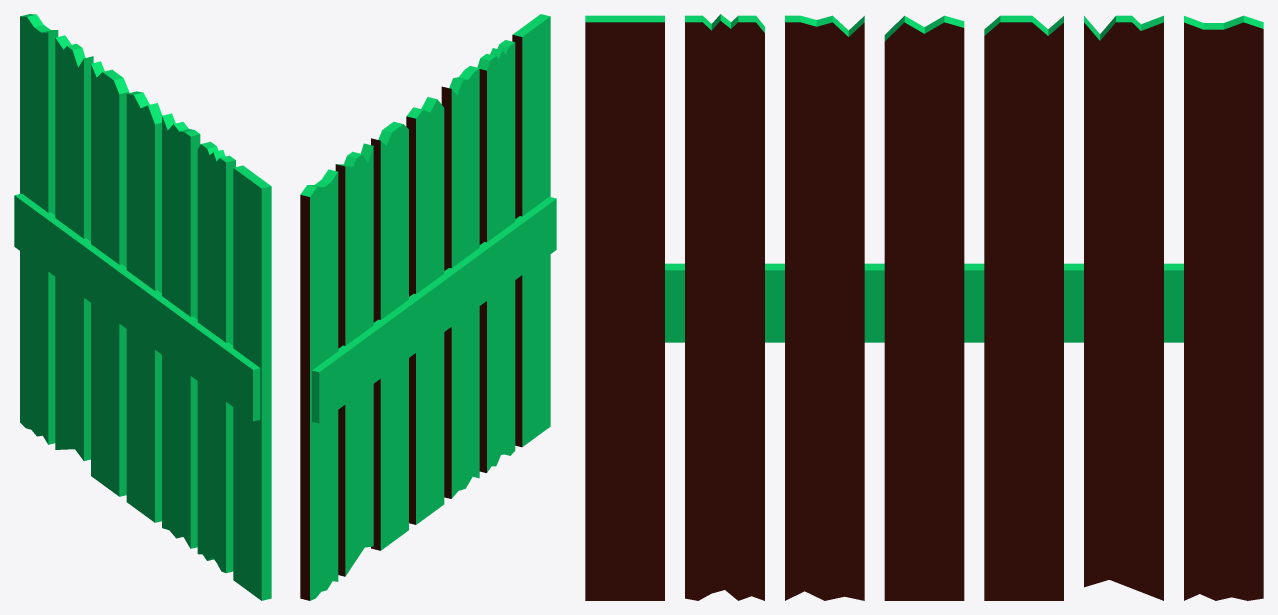
File: Gate 1.fbx
The picture shows the model from 3 angles, left to right: view 1: azimuth 30°, elevation 25°; view 2: azimuth 150°, elevation 25°; view 3: azimuth 270°, elevation 25°; orthographic projection. The views are drawn at different scales.
Parts seen in each view (by area): view 1: Cube.003; view 2: Cube.003; view 3: Cube.003.
Part boxes in pixels (x1,y1,x2,y2): Cube.003: (14, 14, 271, 600); Cube.003: (300, 14, 556, 600); Cube.003: (585, 14, 1263, 600).
Bounding box in the file's own units: 35 × 802 × 850.
